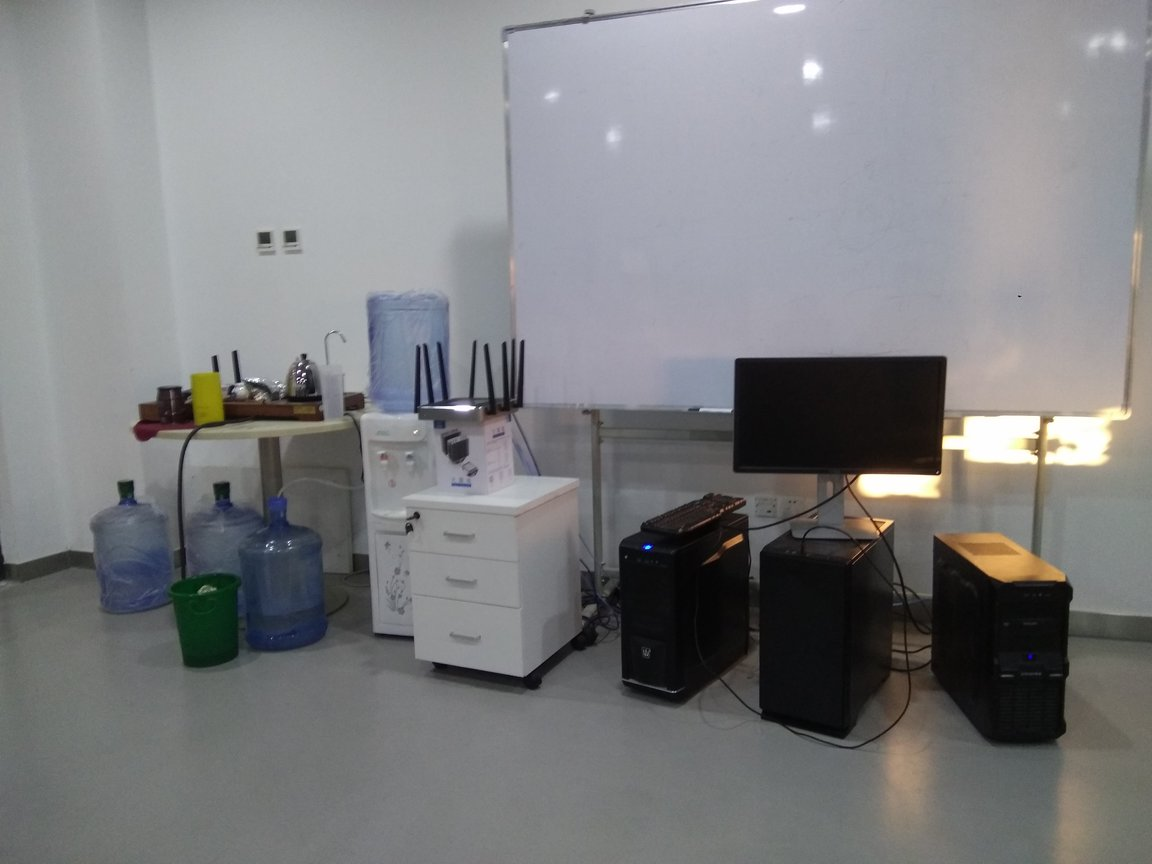computer: (922, 523, 1071, 752), (756, 512, 901, 738), (616, 509, 761, 723)
drawer chest: (408, 476, 588, 691)
monitor: (732, 354, 942, 537)
scuttlebutt: (366, 286, 466, 425), (241, 496, 322, 654), (190, 477, 261, 634), (94, 479, 174, 613)
water dispenser: (363, 398, 478, 650)
